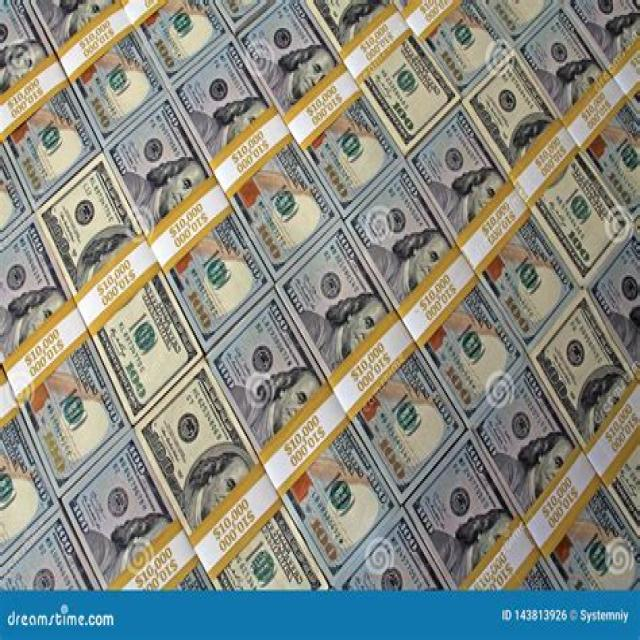Hundred: (204, 288, 400, 578), (276, 225, 466, 497), (344, 159, 528, 419), (99, 92, 272, 351), (404, 101, 580, 353), (166, 36, 340, 270), (470, 358, 640, 590), (0, 210, 133, 503), (237, 0, 403, 211), (404, 429, 563, 591), (0, 0, 102, 210)
